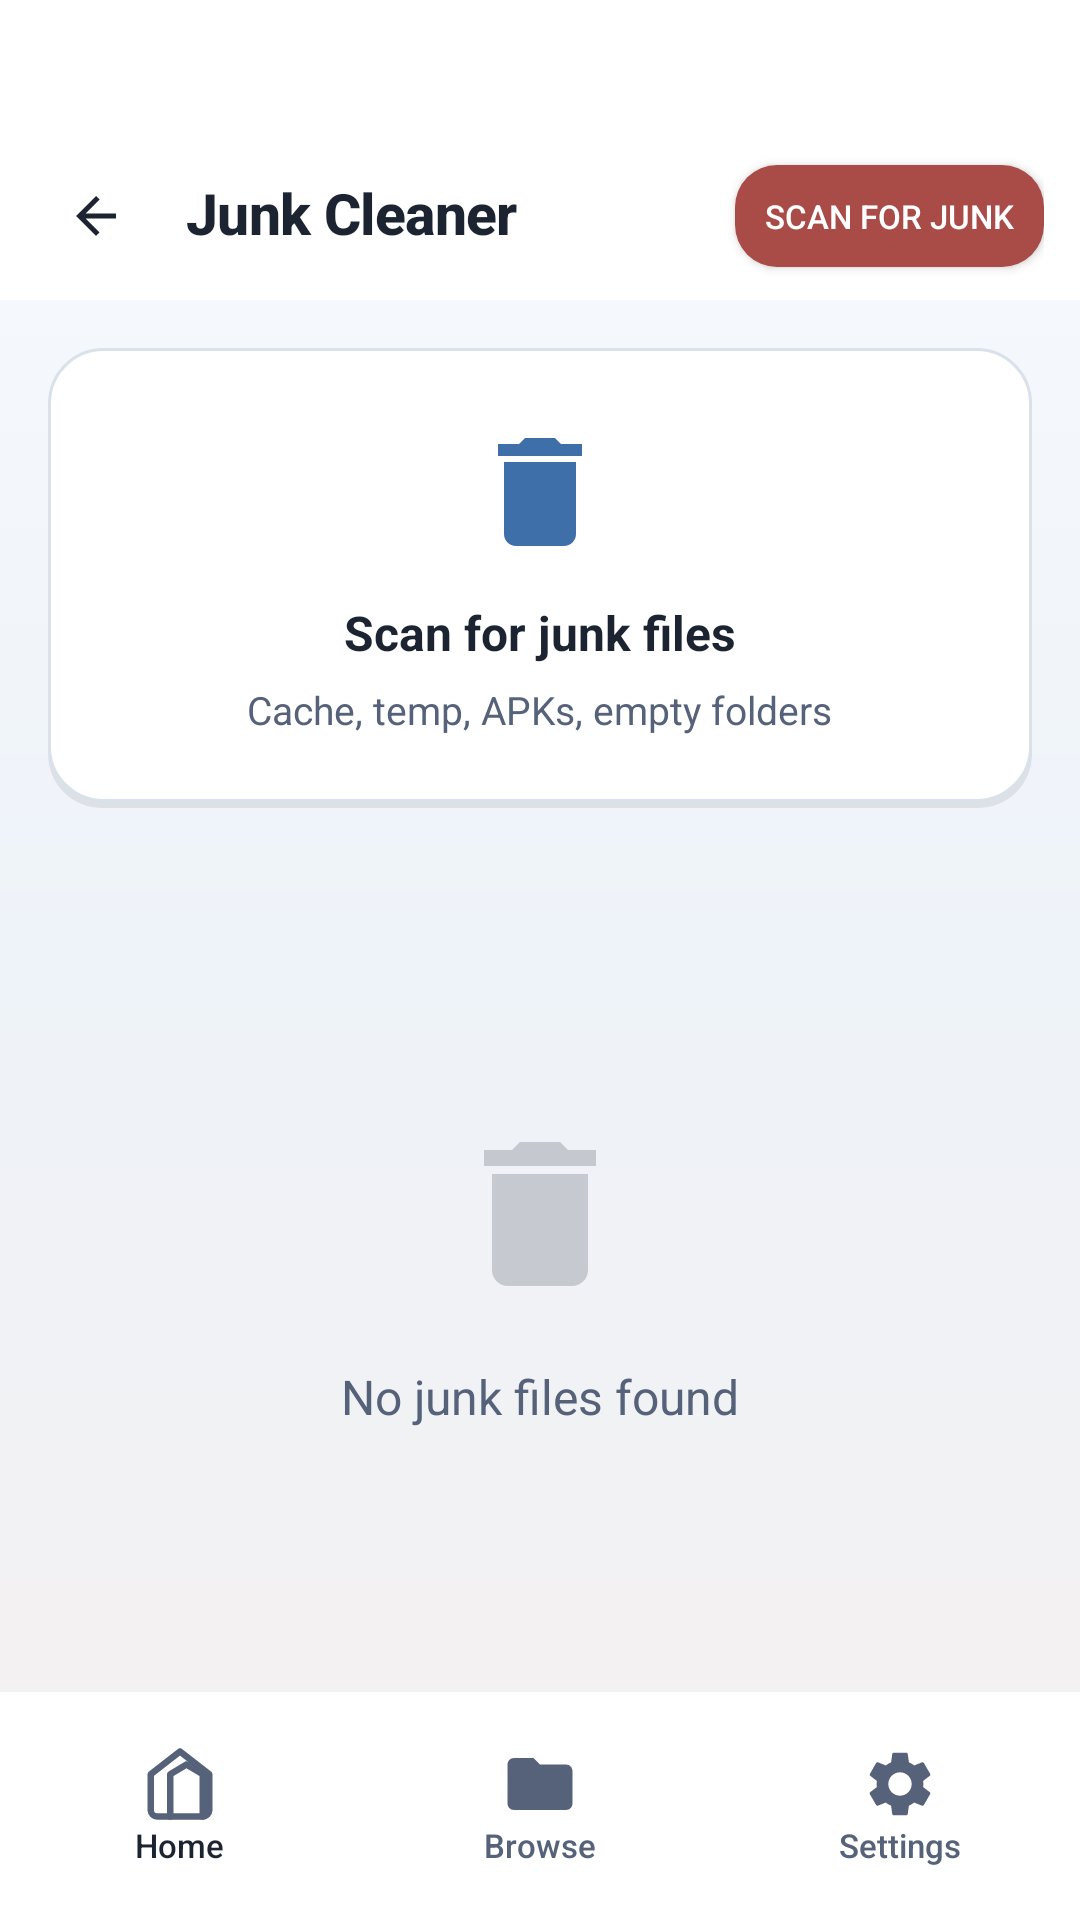

Named icons in this screenshot (1080x1920) and their bounding boxes, box(x1, y1, x2, y2):
arrow back: box(76, 196, 116, 236)
folder: box(507, 1758, 573, 1810)
